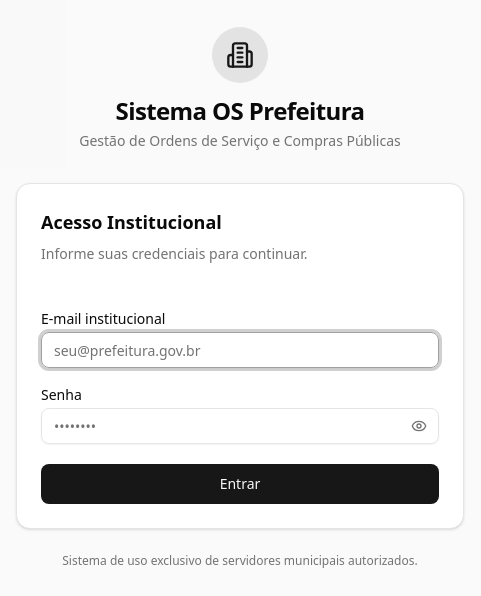
Scenario: LoginPage — US-001 › Validação Zod — US-001 Cenário 2 › exibe "Informe um e-mail válido." para formato inválido
This screenshot has width=481, height=596.
Type "nao-e-um-email" into the field labelled "E-mail institucional".
click(240, 350); type("nao-e-um-email")  # box [41, 332, 439, 368]
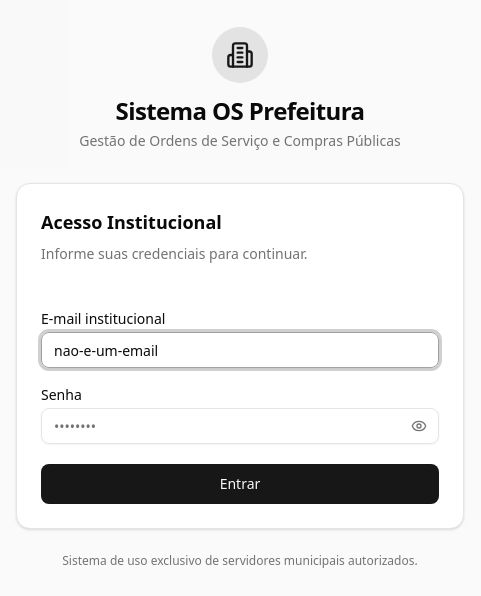
Type "qualquer123" into the password field labelled "Senha".
click(240, 426); type("qualquer123")  # box [41, 408, 439, 444]
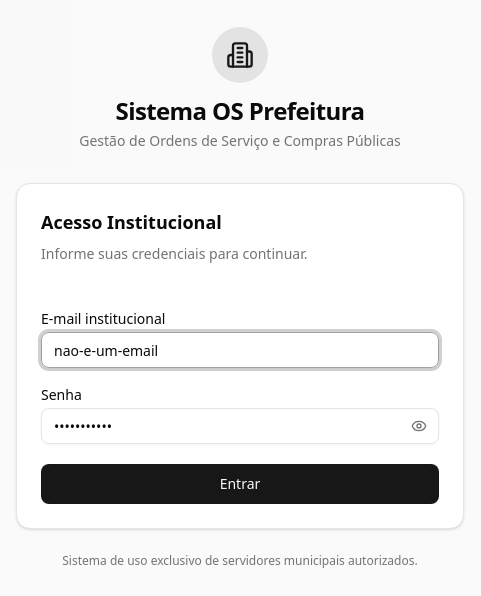
Click the button "Entrar".
click(240, 484)  # box [41, 464, 439, 504]
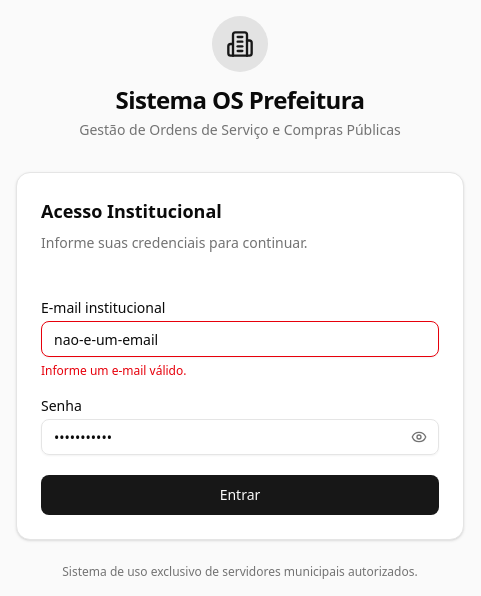
Now the text "Informe um e-mail válido." is shown, box [41, 362, 186, 379]
